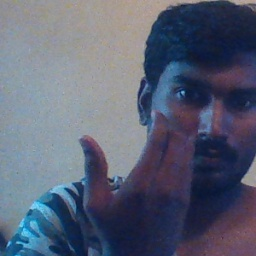U: (62, 105, 198, 226)
